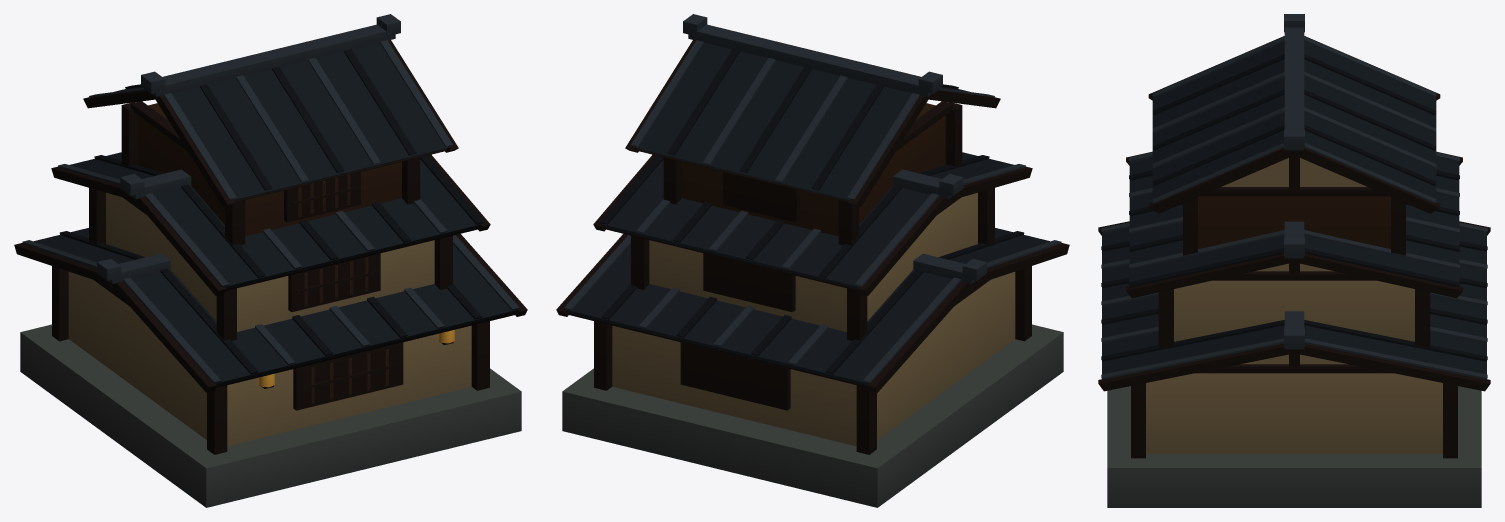
File: guofeng_house_tower.glb
3 renders of one model, left to right at view 1: azimuth 30°, elevation 25°; view 2: azimuth 150°, elevation 25°; view 3: azimuth 270°, elevation 25°, orthographic.
Visible parts, largest first — view 1: Shell; view 2: Shell; view 3: Shell.
Part boxes in pixels (x1,y1,x2,y2): Shell: (14,14,527,507); Shell: (556,14,1069,507); Shell: (1098,14,1490,507).
Size of the model in its own units: 1 by 1 by 1.
